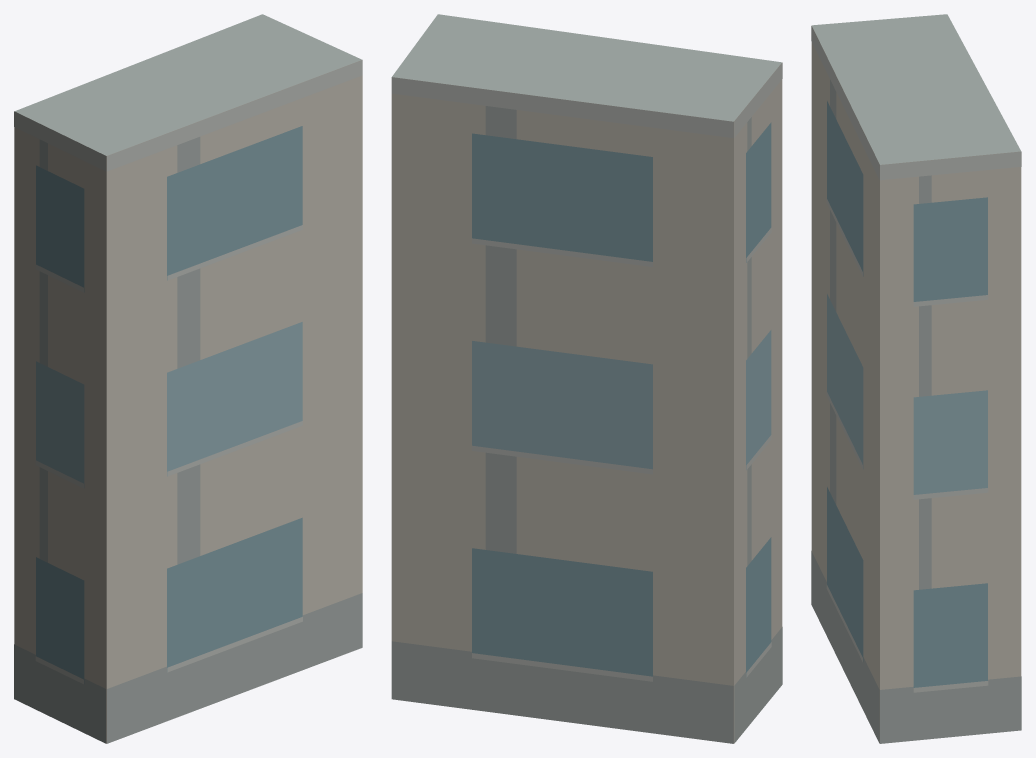
The model's file is survey-upis-32646091.glb.
The picture shows the model from 3 angles, left to right: view 1: azimuth 30°, elevation 25°; view 2: azimuth 150°, elevation 25°; view 3: azimuth 270°, elevation 25°; orthographic projection. The views are drawn at different scales.
Parts seen in each view (by area): view 1: survey-upis-32646091.tmp; view 2: survey-upis-32646091.tmp; view 3: survey-upis-32646091.tmp.
Boxes of the visible parts, x1,y1,x2,y2 form: survey-upis-32646091.tmp: (14,14,362,743); survey-upis-32646091.tmp: (391,14,782,743); survey-upis-32646091.tmp: (811,14,1021,743).
Size of the model in its own units: 5.12 by 9.15 by 3.02.
